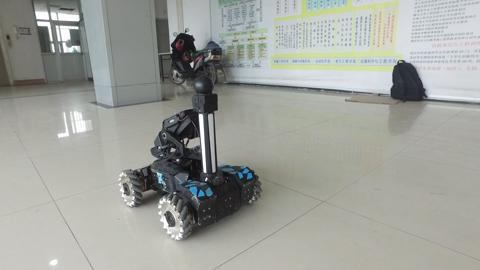bag: (384, 56, 433, 109)
chariot: (106, 73, 270, 246)
